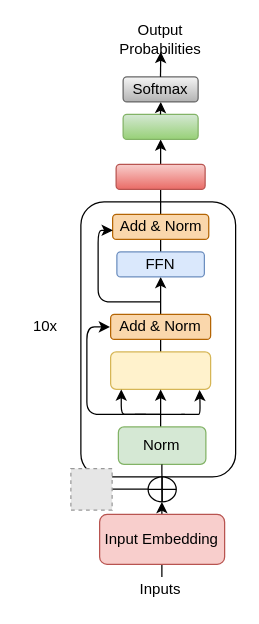
Image size: 259x624. Some labels were removed from this diagram. Grey dashed boxes stand in for pictures. Each missing label, with the centre of its shape:
Boom: point (160, 176)
Linear: point (160, 126)
Multi-Head Attention: point (160, 370)
